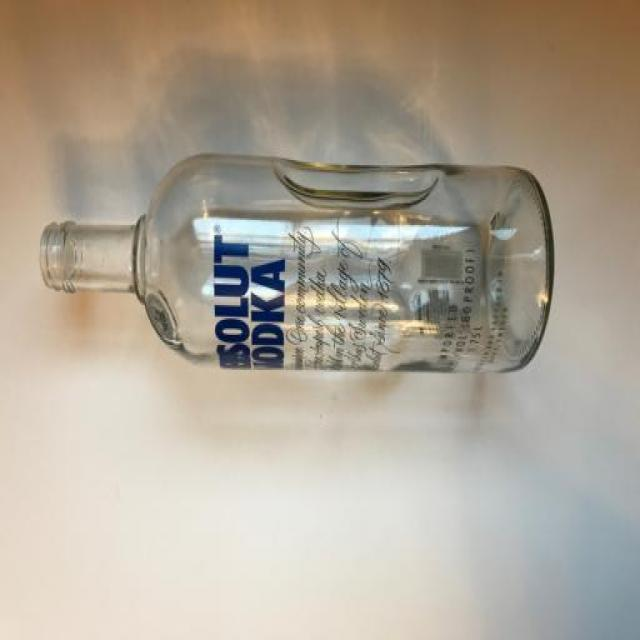glass: (25, 113, 575, 422)
